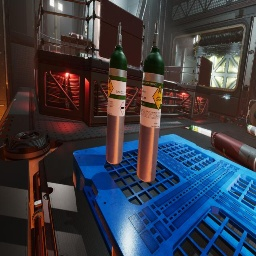0: (136, 20, 164, 182), (106, 22, 127, 164), (185, 125, 211, 137), (73, 52, 96, 58), (246, 124, 256, 136)
EmergencyPhone ,: (84, 22, 87, 35)
FireExtinguisher ]: (220, 116, 227, 123), (131, 67, 131, 68)
NitrogenTank ,: (211, 132, 256, 172), (69, 33, 91, 41)
